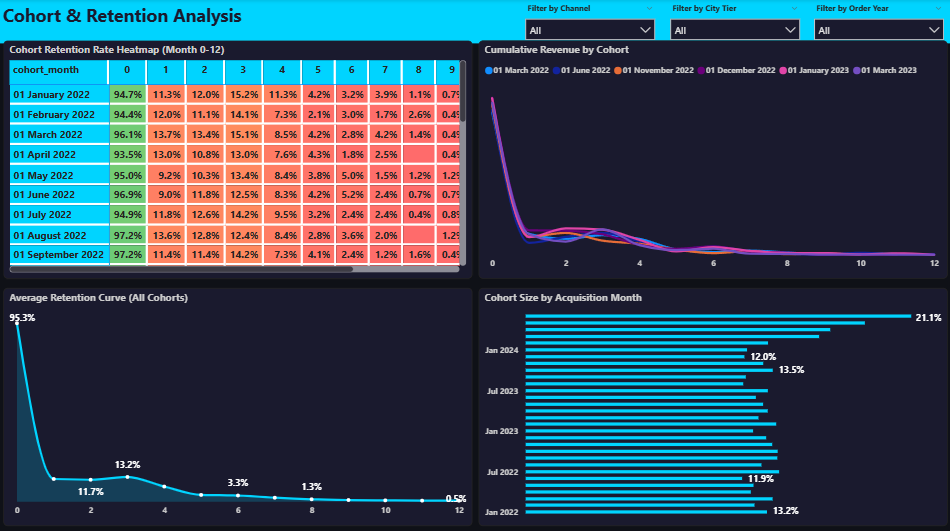

Layout of this report page (visuals, bound fields, positions):
{"tool":"powerbi","page":{"name":"Cohort & Retention","canvas":[1280,720],"ordinal":1},"visuals":[{"type":"textbox","box":[0,0,1279.4,60],"z":0},{"type":"pivotTable","title":"Cohort Retention Rate Heatmap (Month 0-12)","fields":{"Columns":["cohort_retention.months_since_acq"],"Values":["Avg(cohort_retention.retention_rate)"],"Rows":["cohort_retention.cohort_month.Variation.Date Hierarchy.Month"]},"box":[6,55.6,630,320],"z":1000},{"type":"areaChart","title":"Average Retention Curve (All Cohorts)","fields":{"Category":["cohort_retention.months_since_acq"],"Y":["Avg(cohort_retention.retention_rate)"]},"box":[6,387.9,629.9,320.2],"z":2000},{"type":"lineChart","title":"Cumulative Revenue by Cohort","fields":{"Category":["cohort_retention.months_since_acq"],"Y":["Sum(cohort_retention.cohort_revenue)"],"Series":["cohort_retention.cohort_month.Variation.Date Hierarchy.Month"]},"box":[645,55.6,629.9,320.2],"z":3000},{"type":"clusteredBarChart","title":"Cohort Size by Acquisition Month","fields":{"Category":["cohort_retention.cohort_month.Variation.Date Hierarchy.Month"],"Y":["Avg(cohort_retention.retention_rate)"]},"box":[645,387.9,629.9,320.2],"z":4000},{"type":"slicer","fields":{"Values":["dim_channel.Channel"]},"box":[697.6,0,193.9,58.6],"z":5000},{"type":"slicer","fields":{"Values":["dim_date.Year"]},"box":[1085.5,0,193.9,57.1],"z":6000},{"type":"slicer","fields":{"Values":["dim_customers.city_tier"]},"box":[891.5,0,193.9,58.6],"z":7000}]}

Visuals, with their boxes in screenshot pixels (x1, y1, x2, y2), scaled from the page's 1280x720 canvas onto the 950x531 screenshot:
textbox: crop(0, 0, 949, 44)
"Cohort Retention Rate Heatmap (Month 0-12)" pivotTable: crop(4, 41, 472, 277)
"Average Retention Curve (All Cohorts)" areaChart: crop(4, 286, 472, 522)
"Cumulative Revenue by Cohort" lineChart: crop(479, 41, 946, 277)
"Cohort Size by Acquisition Month" clusteredBarChart: crop(479, 286, 946, 522)
slicer - dim_channel.Channel: crop(518, 0, 662, 43)
slicer - dim_date.Year: crop(806, 0, 949, 42)
slicer - dim_customers.city_tier: crop(662, 0, 806, 43)
